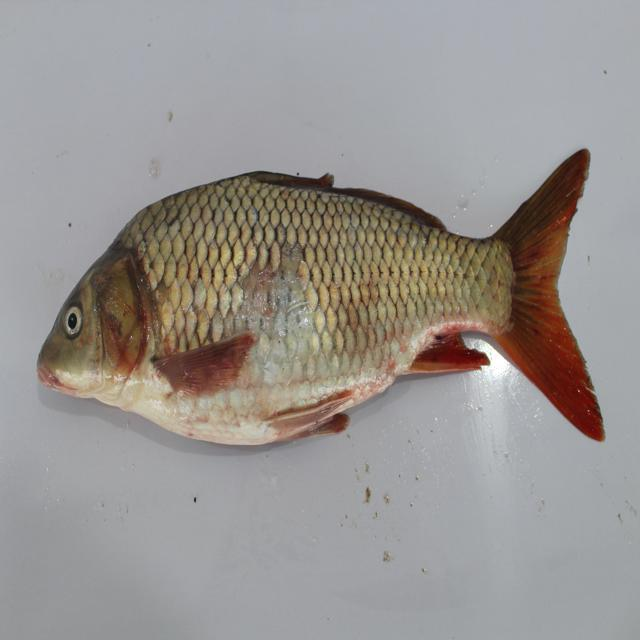CommonCarp: (42, 150, 625, 473)
